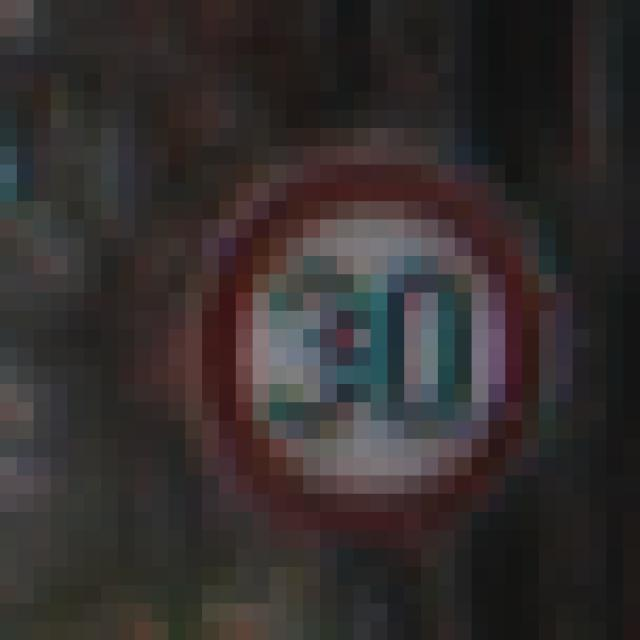Speed Limit -30-: (92, 82, 530, 521)
